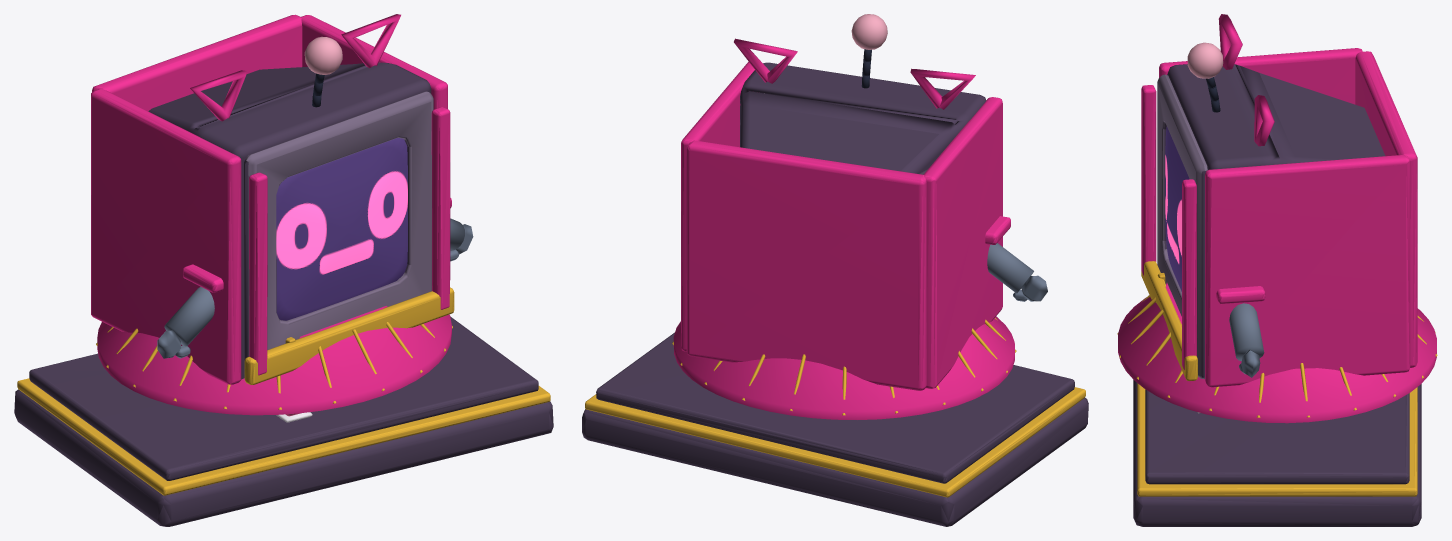
File: kart.outfit.ballerina.glb
The picture shows the model from 3 angles, left to right: view 1: azimuth 30°, elevation 25°; view 2: azimuth 150°, elevation 25°; view 3: azimuth 270°, elevation 25°; orthographic projection. The views are drawn at different scales.
Visible parts, largest first — view 1: emi_teacup_mesh, jacket_side.001, display_top, stand_identity_face, display_base, pleated_tutu, brass_band, jacket_back, waist_band, front_open_edge, front_open_edge.001, jacket_side (+3 smaller); view 2: jacket_back, display_top, emi_teacup_mesh, jacket_side.001, display_base, pleated_tutu, brass_band, jacket_side, hair_bow, hair_bow.001; view 3: jacket_side, emi_teacup_mesh, display_top, pleated_tutu, display_base, brass_band, jacket_back, jacket_side.001, front_open_edge.001, front_open_edge, stand_identity_face, waist_band (+3 smaller).
Boxes of the visible parts, <box> form: emi_teacup_mesh: <box>148,36,473,422</box>; jacket_side.001: <box>91,89,241,384</box>; display_top: <box>29,316,538,480</box>; stand_identity_face: <box>276,138,407,320</box>; display_base: <box>14,389,553,526</box>; pleated_tutu: <box>97,306,451,415</box>; brass_band: <box>17,378,550,495</box>; jacket_back: <box>92,14,302,111</box>; waist_band: <box>244,287,454,384</box>; front_open_edge: <box>431,107,450,309</box>; front_open_edge.001: <box>249,172,267,375</box>; jacket_side: <box>301,15,447,109</box>; jacket_back: <box>686,140,926,390</box>; display_top: <box>596,332,1074,483</box>; emi_teacup_mesh: <box>740,14,1047,301</box>; jacket_side.001: <box>923,97,1002,388</box>; display_base: <box>582,398,1088,526</box>; pleated_tutu: <box>673,316,1014,419</box>; brass_band: <box>585,387,1085,497</box>; jacket_side: <box>681,61,754,351</box>; hair_bow: <box>734,38,797,83</box>; hair_bow.001: <box>910,68,975,109</box>; jacket_side: <box>1205,155,1410,387</box>; emi_teacup_mesh: <box>1157,42,1385,413</box>; display_top: <box>1145,389,1409,484</box>; pleated_tutu: <box>1118,283,1436,423</box>; display_base: <box>1133,380,1421,526</box>; brass_band: <box>1137,383,1417,496</box>; jacket_back: <box>1355,51,1417,367</box>; jacket_side.001: <box>1159,48,1362,104</box>; front_open_edge.001: <box>1141,85,1156,275</box>; front_open_edge: <box>1182,179,1196,369</box>; stand_identity_face: <box>1165,126,1189,291</box>; waist_band: <box>1141,261,1197,381</box>.
Bounding box in the file's own units: 0.648 × 0.6545 × 0.48.
Materials: 4 (2 with a texture image).
